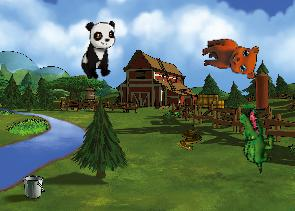bear: (201, 38, 259, 80)
crocodile: (223, 105, 287, 174)
panda: (80, 19, 117, 81)
